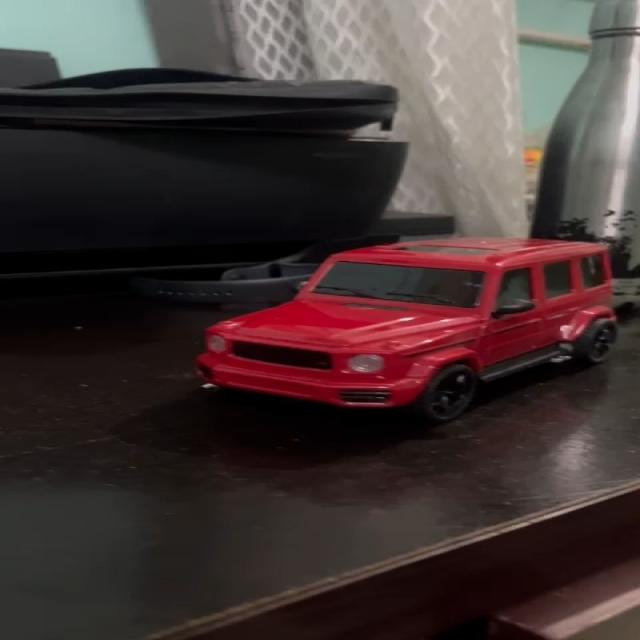light_vehicle: (190, 238, 619, 414)
